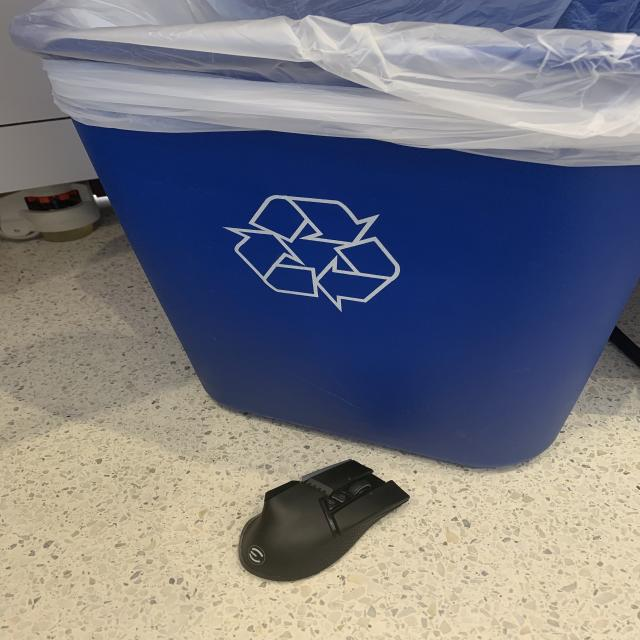Mouse: (219, 456, 412, 588)
